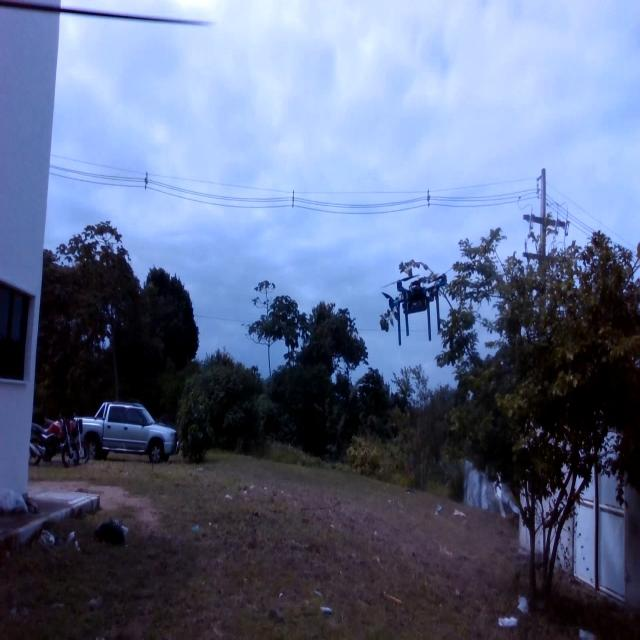-uav-: (380, 266, 462, 346)
